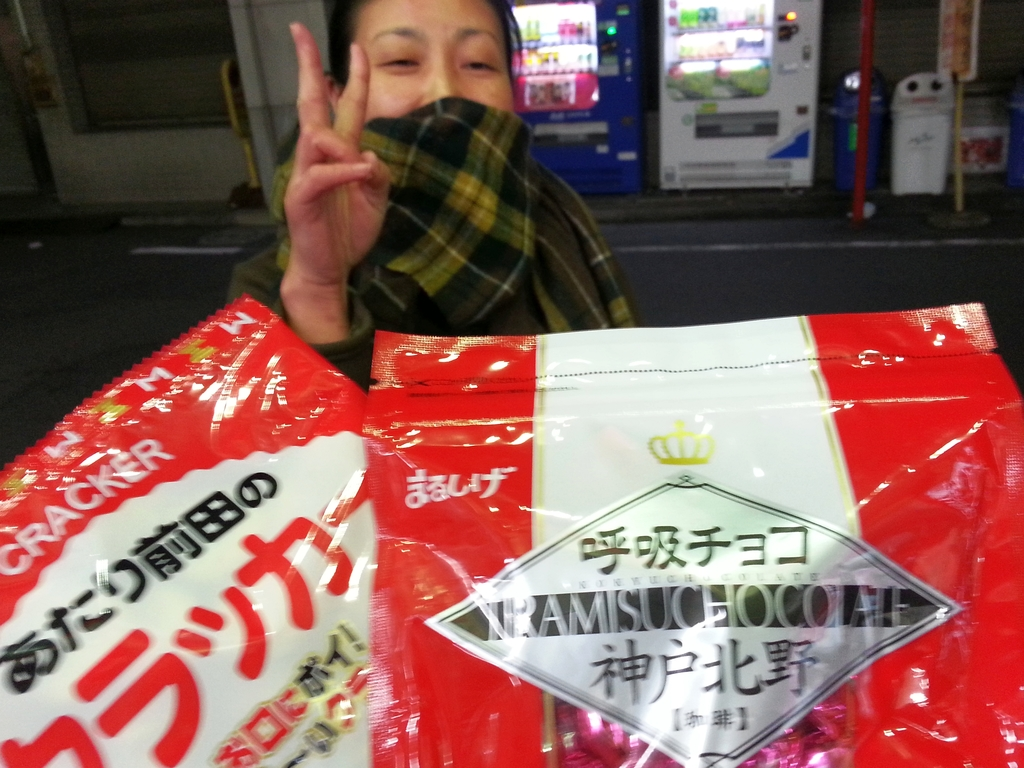Human_hand: (264, 28, 394, 327)
